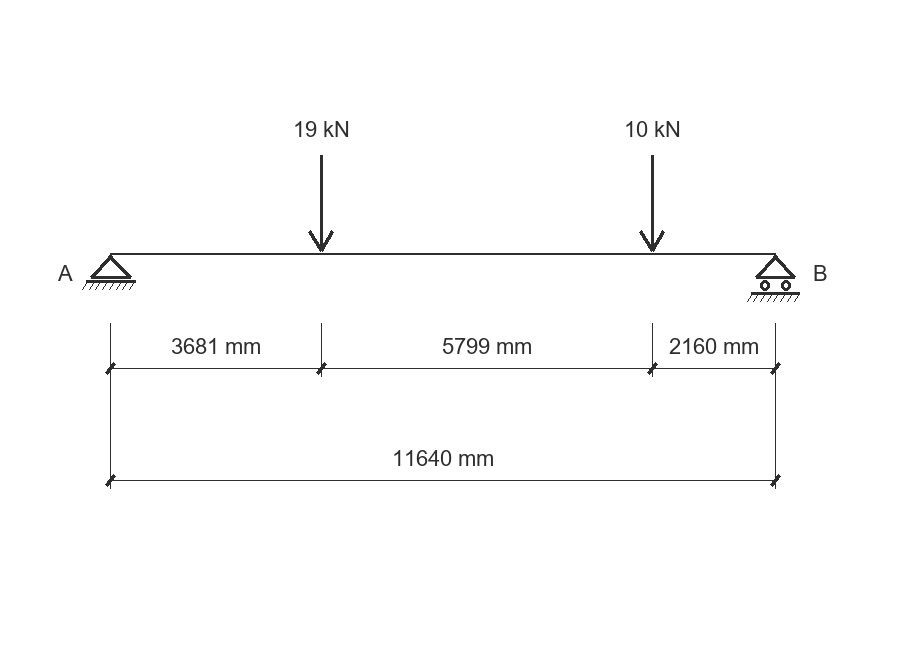pin_support: (82, 255, 136, 290)
point_load: (308, 155, 334, 252), (639, 155, 665, 252)
roller_support: (747, 255, 800, 302)
